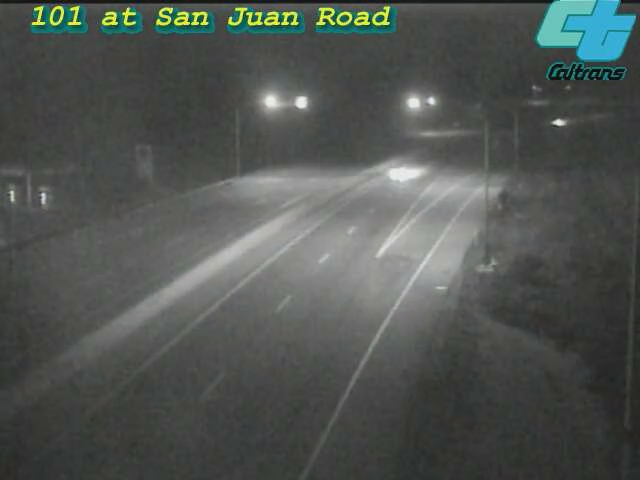vehicle: (358, 135, 438, 215), (535, 97, 585, 147)
